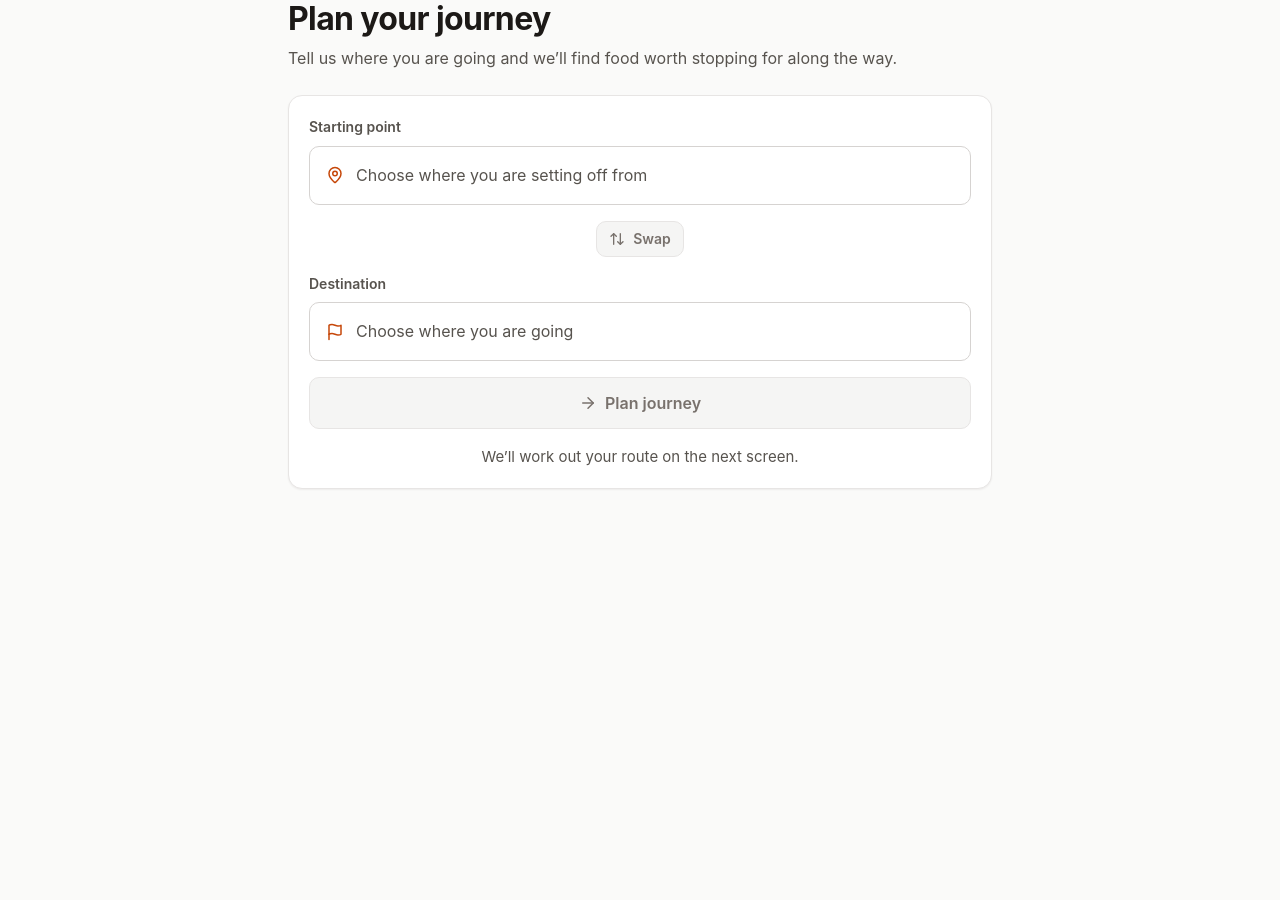
Test: TripPlannerScreen › still lets a customer search when their saved addresses fail to load
The image size is (1280, 900).
Click the button with aria-label "Starting point" at (640, 175), box top-left (309, 146), bottom-right (971, 205)
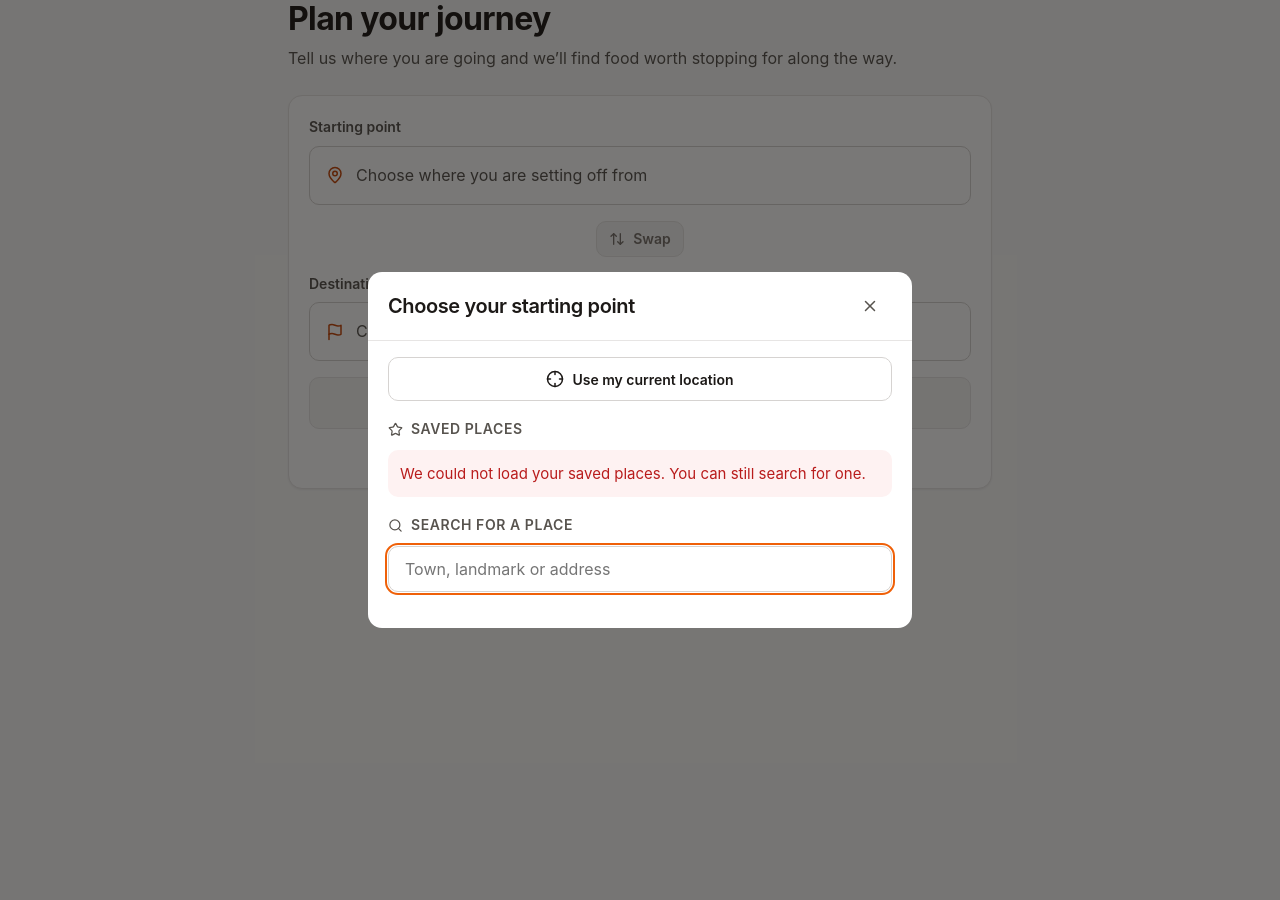
Expected: the message shows "could not load your saved places", top-left (400, 464), bottom-right (866, 483)
Expected: the dropdown named "Search for a place" is shown, top-left (388, 546), bottom-right (892, 592)
Expected: the button "Use my current location" is shown, top-left (388, 357), bottom-right (892, 401)
